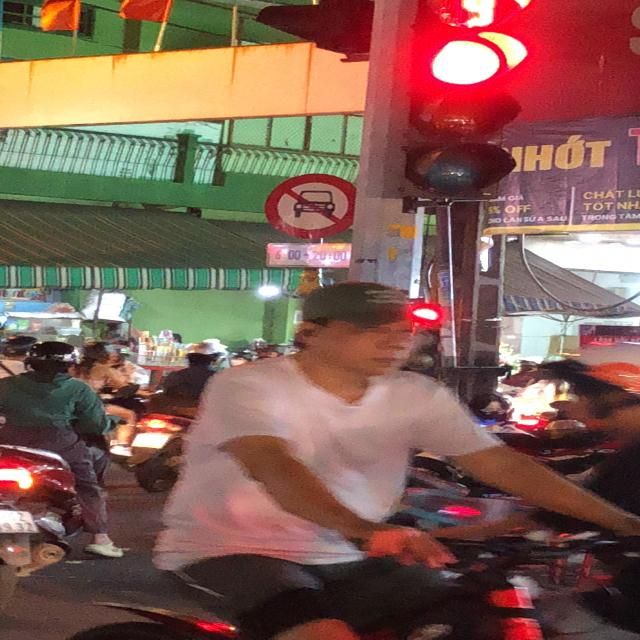Bien bao cam xe oto: (261, 169, 362, 242)
